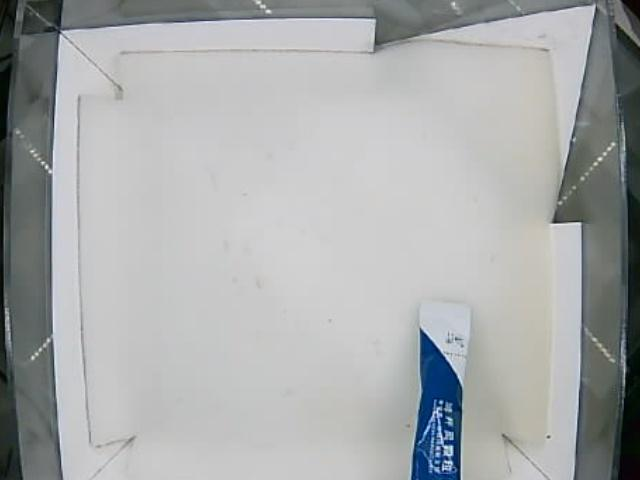Medicine: (411, 302, 472, 478)
